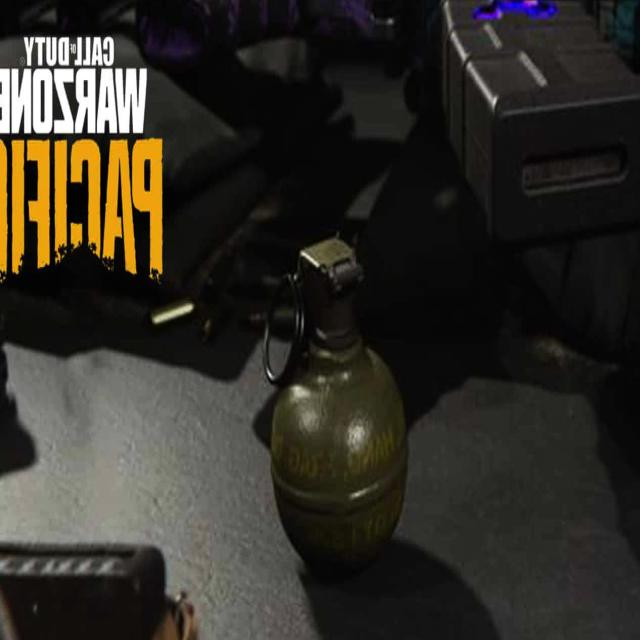grenade: (56, 1, 640, 245), (264, 236, 409, 581)
